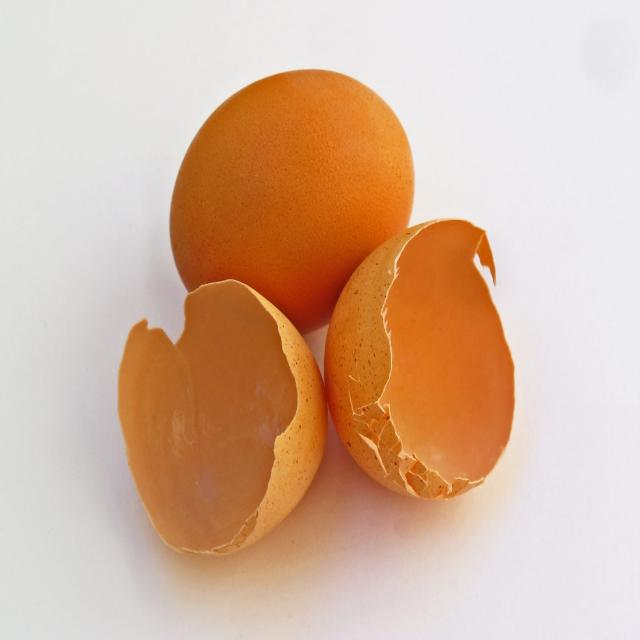wet: (117, 292, 312, 561), (324, 218, 508, 498), (185, 88, 406, 310)
